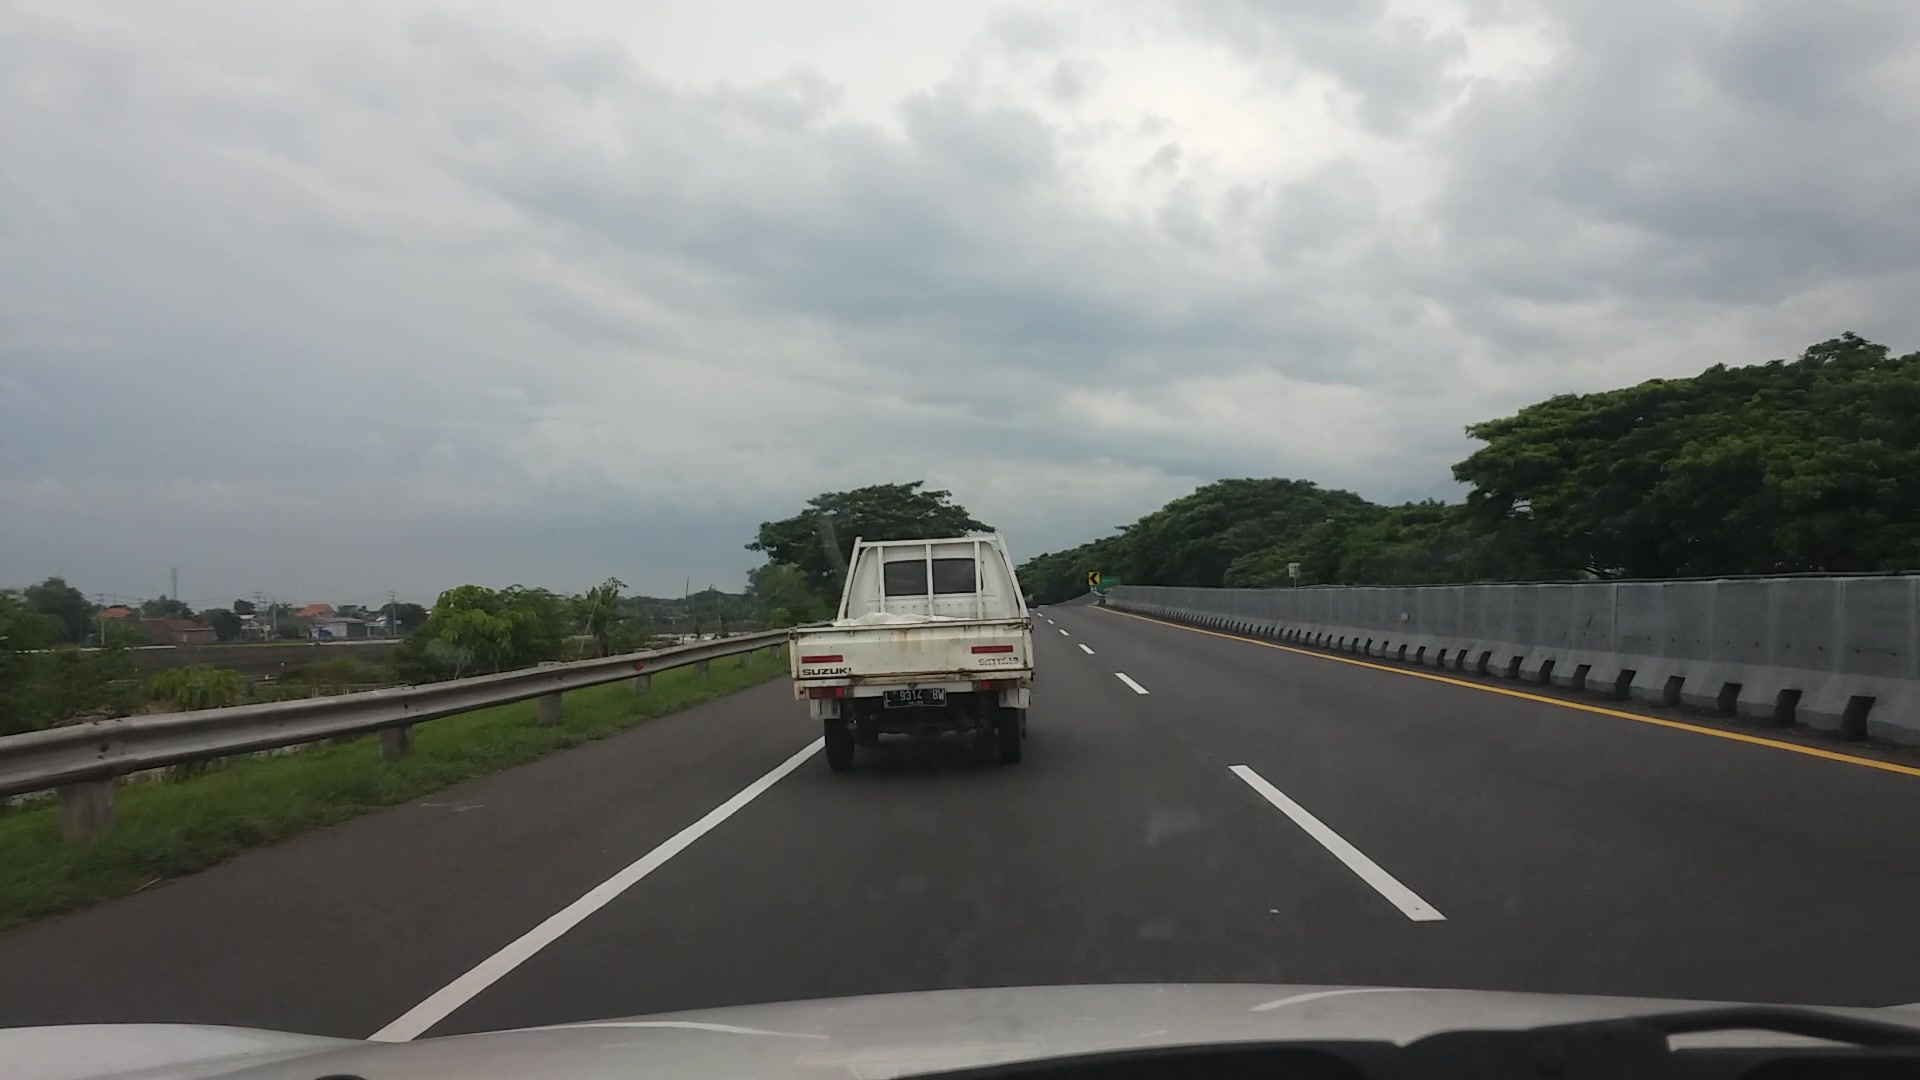plate_positive: (884, 688, 945, 707)
